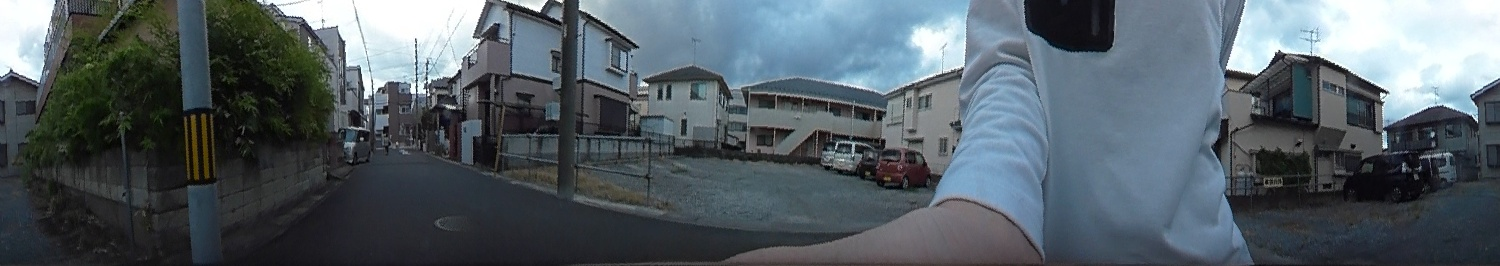difficult_person: (382, 134, 393, 156)
